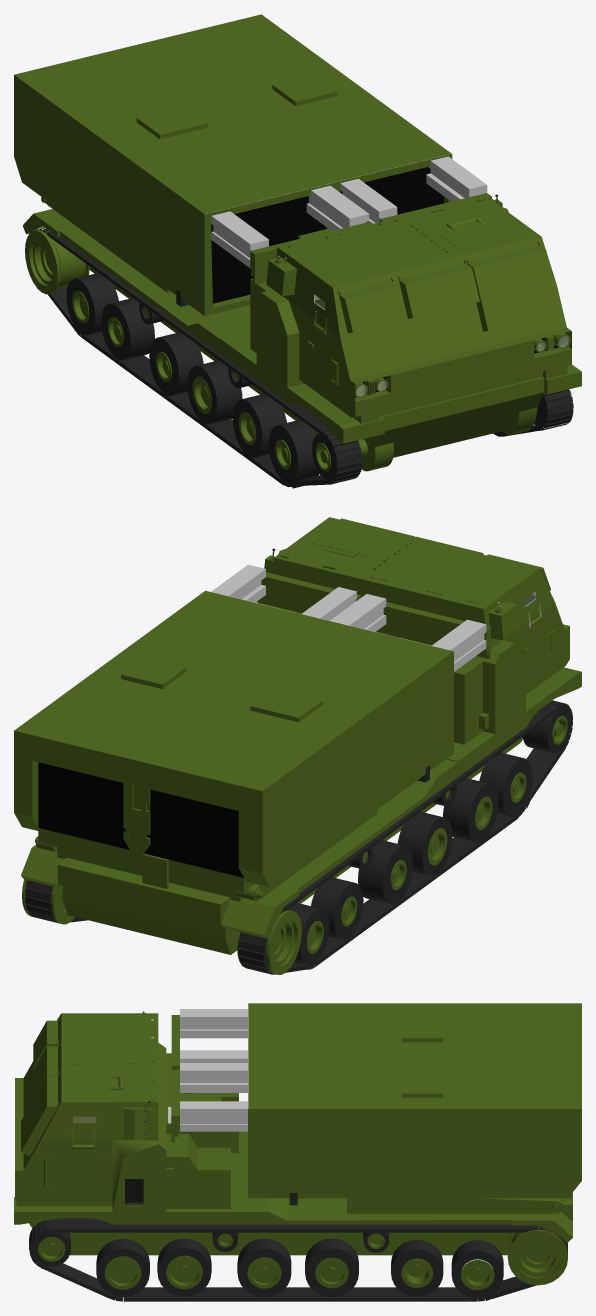
Rendered from mlrs.dae.
The picture shows the model from 3 angles, top to bottom: view 1: azimuth 30°, elevation 25°; view 2: azimuth 150°, elevation 25°; view 3: azimuth 270°, elevation 25°; orthographic projection. The views are drawn at different scales.
Parts seen in each view (by area): view 1: Model; view 2: Model; view 3: Model.
Boxes of the visible parts, x1,y1,x2,y2 form: Model: (14, 14, 581, 488); Model: (14, 517, 581, 974); Model: (14, 1003, 581, 1301).
Size of the model in its own units: 201 by 455 by 175.
